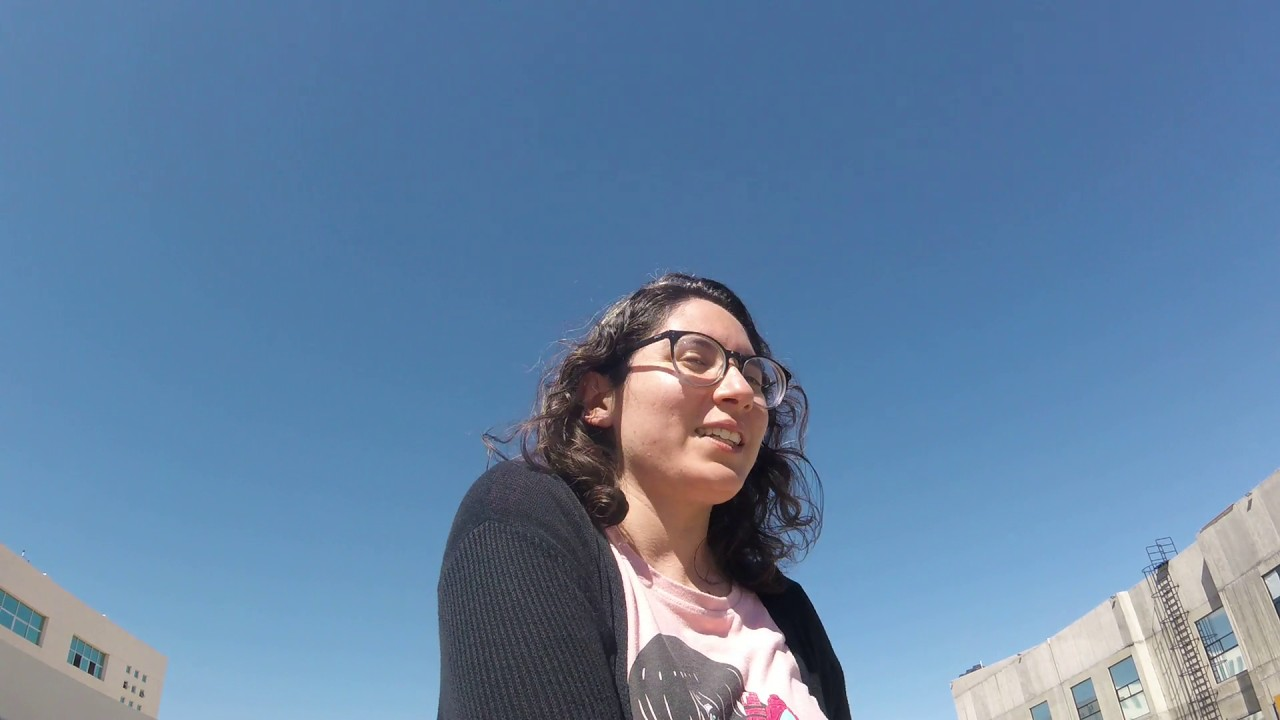Without Helmet: (503, 260, 822, 547)
